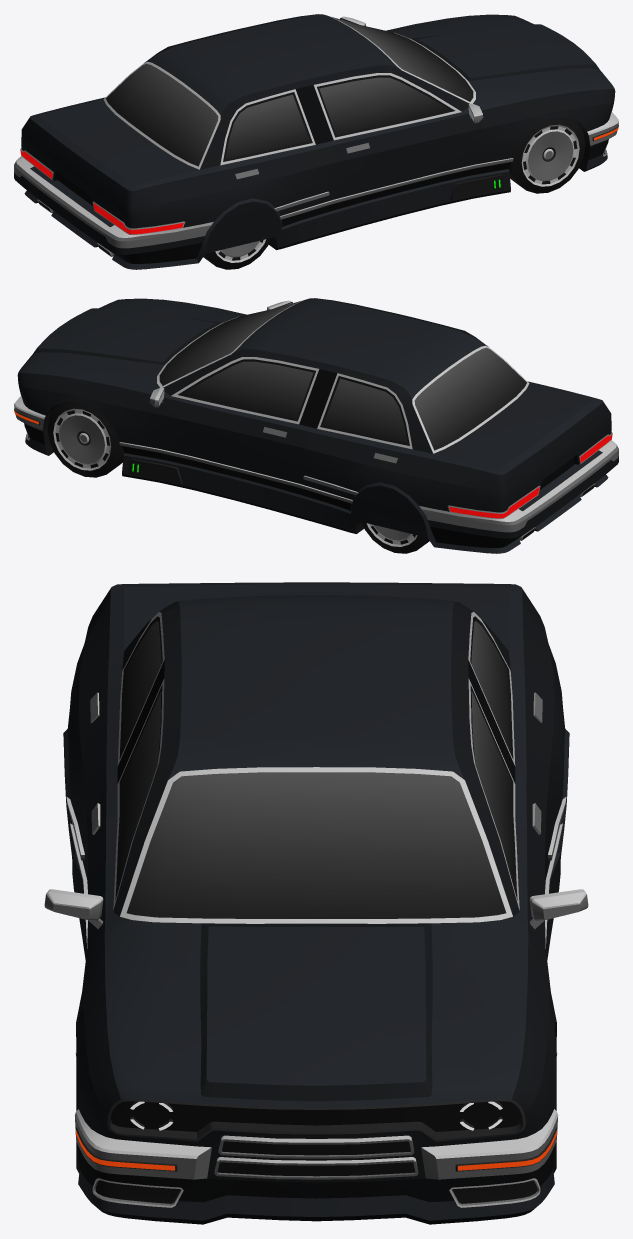
File: Car_105.glb
3 renders of one model, top to bottom at view 1: azimuth 30°, elevation 25°; view 2: azimuth 150°, elevation 25°; view 3: azimuth 270°, elevation 25°, orthographic. The views are drawn at different scales.
Parts seen in each view (by area): view 1: Car_105, wheel_1_Car_105_Wheel_1R, wheel_3_Car_105_Wheel_2R; view 2: Car_105, wheel_0_Car_105_Wheel_1L, wheel_2_Car_105_Wheel_2L; view 3: Car_105.
Boxes of the visible parts, left/top/right/bottom form: Car_105: left=14, top=14, right=618, bottom=269; wheel_1_Car_105_Wheel_1R: left=508, top=117, right=585, bottom=193; wheel_3_Car_105_Wheel_2R: left=203, top=238, right=271, bottom=269; Car_105: left=14, top=298, right=618, bottom=553; wheel_0_Car_105_Wheel_1L: left=47, top=401, right=124, bottom=477; wheel_2_Car_105_Wheel_2L: left=361, top=522, right=429, bottom=553; Car_105: left=44, top=582, right=588, bottom=1224.
Bounding box in the file's own units: 4.8 × 1.34 × 2.19.
Materials: 2 (2 with a texture image).
